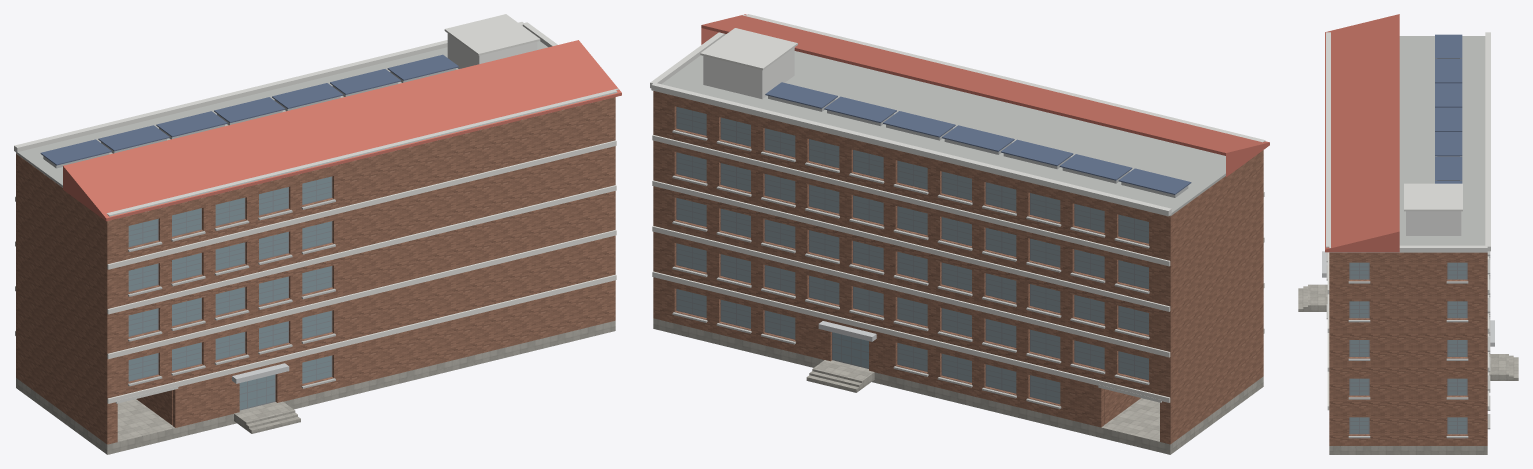
3 views of the same model, side by side, from view 1: azimuth 30°, elevation 25°; view 2: azimuth 150°, elevation 25°; view 3: azimuth 270°, elevation 25° (orthographic). The views are drawn at different scales.
Parts seen in each view (by area): view 1: main__brick, main__redroof, main__glass, main__band, main__cap, main__stone, main__solar, main__frame, main__roof, main__sill, main__white, main__steel (+2 smaller); view 2: main__brick, main__sideglass, main__roof, main__band, main__redroof, main__frame, main__cap, main__stone, main__solar, main__sill, main__white, main__steel (+3 smaller); view 3: main__brick, main__redroof, main__roof, main__cap, main__solar, main__sideglass, main__frame, main__stone, main__white, main__sill, main__band, main__threshold-front (+4 smaller).
Boxes of the visible parts, <box> form: main__brick: <box>16,97,615,444</box>; main__redroof: <box>63,40,621,221</box>; main__glass: <box>128,176,331,409</box>; main__band: <box>15,140,616,403</box>; main__cap: <box>14,14,618,403</box>; main__stone: <box>16,320,615,454</box>; main__solar: <box>40,54,458,165</box>; main__frame: <box>128,176,332,410</box>; main__roof: <box>16,41,547,187</box>; main__sill: <box>128,199,335,388</box>; main__white: <box>447,33,537,68</box>; main__steel: <box>43,68,456,168</box>; main__brick: <box>653,91,1263,444</box>; main__sideglass: <box>677,107,1148,403</box>; main__roof: <box>661,51,1225,216</box>; main__band: <box>652,135,1264,402</box>; main__redroof: <box>701,14,1269,176</box>; main__frame: <box>676,106,1148,404</box>; main__cap: <box>650,14,1265,402</box>; main__stone: <box>653,318,1263,454</box>; main__solar: <box>765,82,1191,194</box>; main__sill: <box>672,130,1149,409</box>; main__white: <box>703,47,794,98</box>; main__steel: <box>768,96,1188,197</box>; main__brick: <box>1329,252,1487,445</box>; main__redroof: <box>1325,14,1399,252</box>; main__roof: <box>1399,36,1485,245</box>; main__cap: <box>1326,32,1490,252</box>; main__solar: <box>1435,34,1462,183</box>; main__sideglass: <box>1350,262,1466,433</box>; main__frame: <box>1349,262,1467,434</box>; main__stone: <box>1329,446,1487,454</box>; main__white: <box>1406,211,1461,235</box>; main__sill: <box>1326,251,1490,438</box>; main__band: <box>1327,252,1489,410</box>; main__threshold-front: <box>1312,284,1327,311</box>.
Size of the model in its own units: 41 by 20.38 by 17.54.
Materials: 15 (2 with a texture image).
